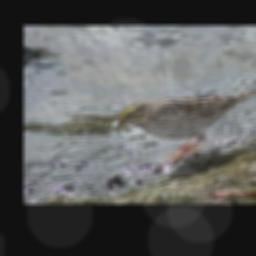Sparrow: (113, 83, 256, 163)
